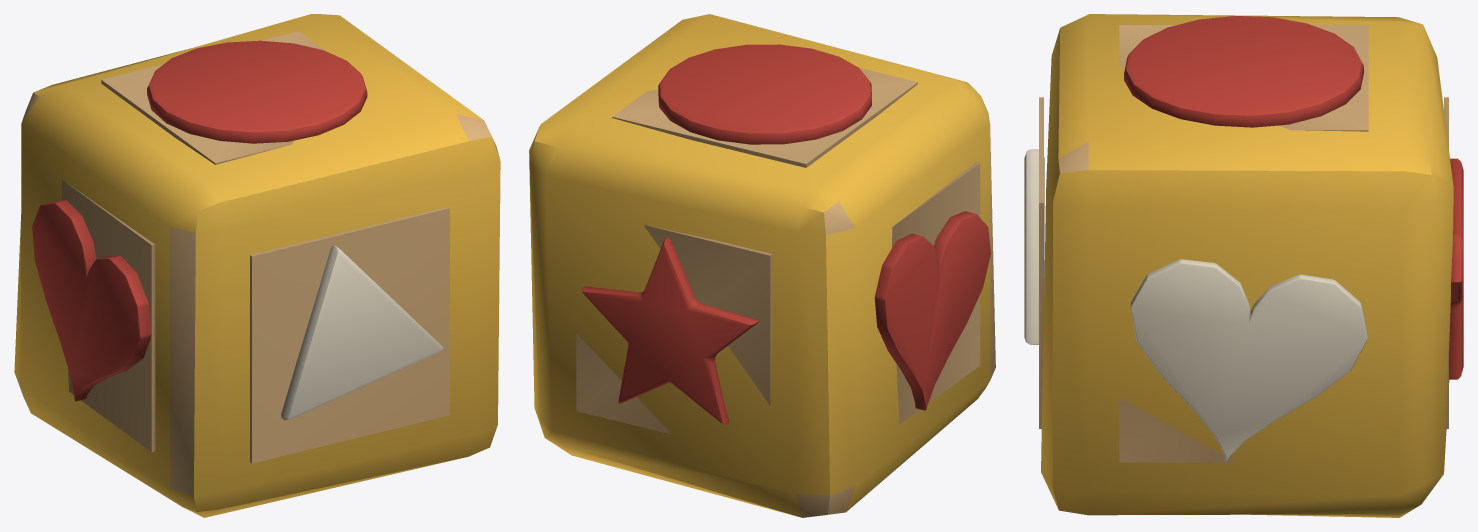
File: den_block_yellow.glb
3 views of the same model, side by side, from view 1: azimuth 30°, elevation 25°; view 2: azimuth 150°, elevation 25°; view 3: azimuth 270°, elevation 25° (orthographic). The views are drawn at different scales.
Parts seen in each view (by area): view 1: den_block_yellow; view 2: den_block_yellow; view 3: den_block_yellow.
Part boxes in pixels (<box>): den_block_yellow: <box>14,14,500,517</box>; den_block_yellow: <box>529,14,995,517</box>; den_block_yellow: <box>1024,14,1463,517</box>.
Size of the model in its own units: 4.93 by 4.79 by 4.93.
